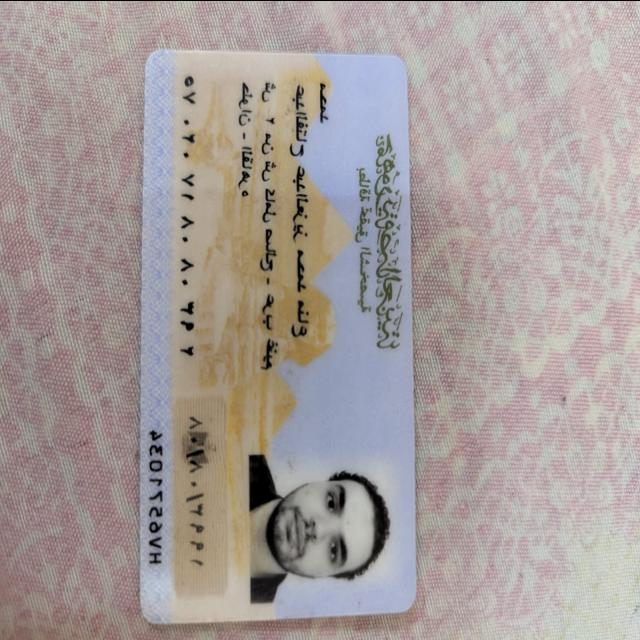ID-cards: (123, 35, 421, 631)
